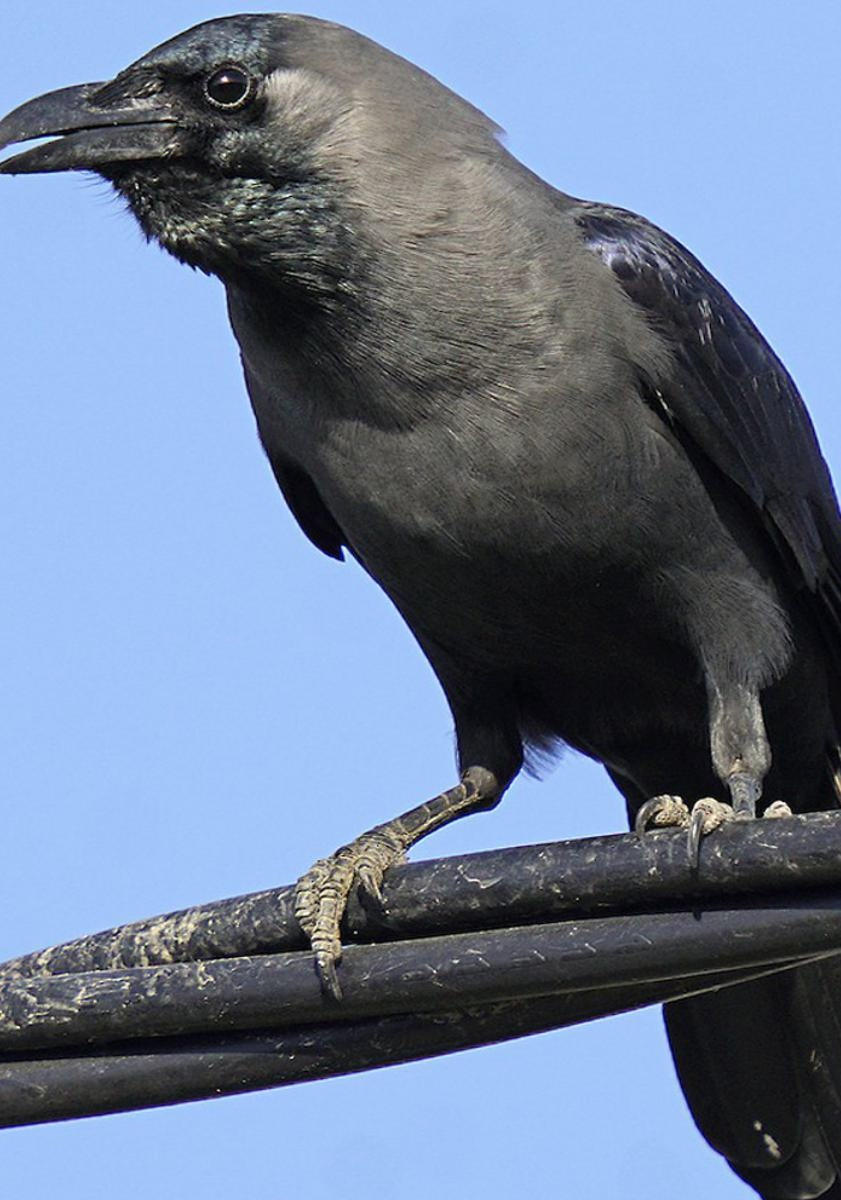crow: (4, 5, 841, 1191)
